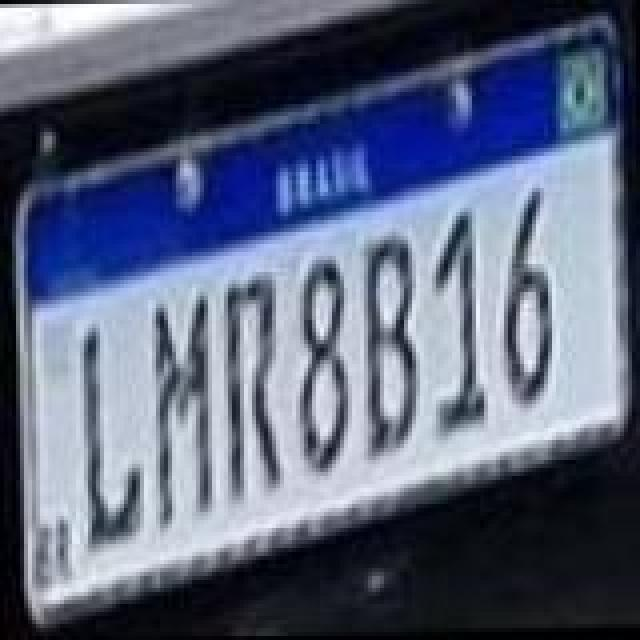1: (426, 208, 486, 432)
6: (498, 190, 558, 414)
8: (294, 252, 354, 476)
B: (362, 238, 422, 470)
L: (80, 318, 148, 550)
M: (156, 294, 216, 538)
R: (222, 276, 286, 508)
